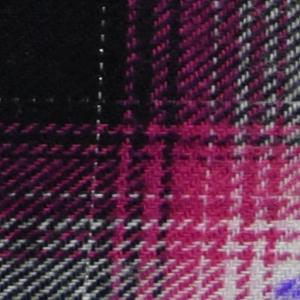Stain: (269, 275, 300, 300)
